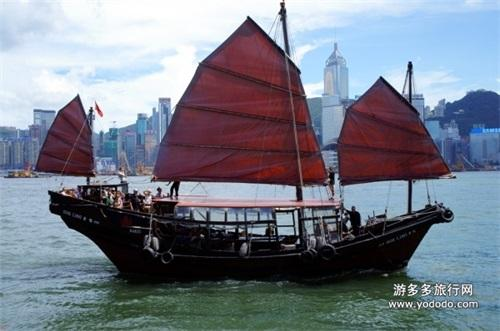Ship: (35, 1, 455, 284)
